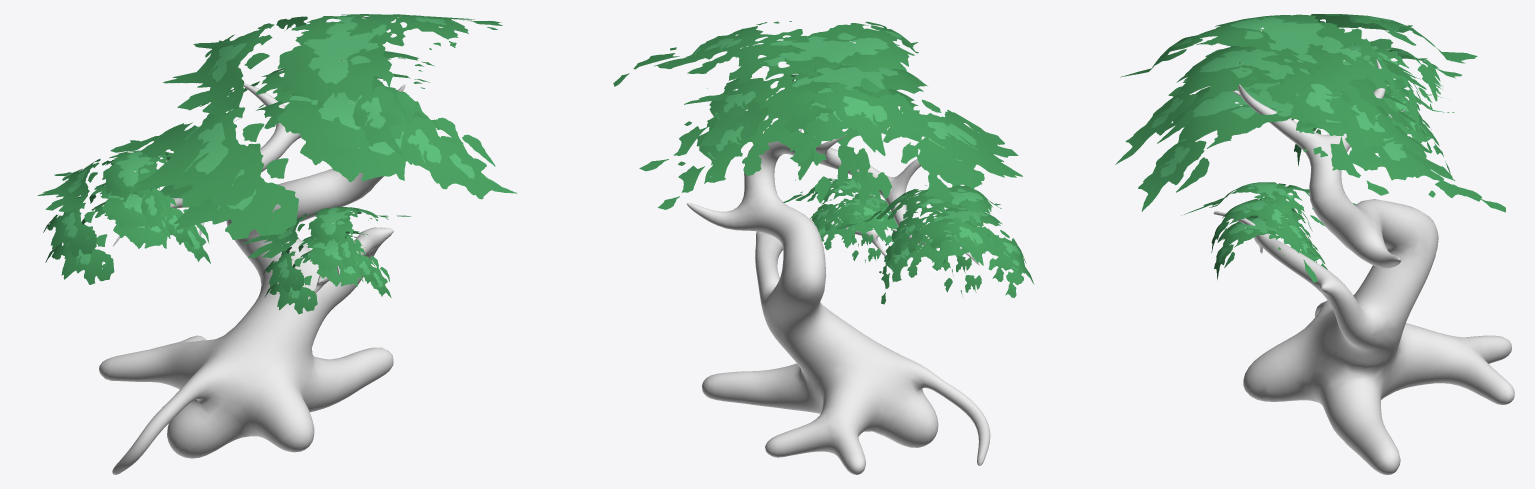
File: BRUME_Arbre.fbx
3 renders of one model, left to right at view 1: azimuth 30°, elevation 25°; view 2: azimuth 150°, elevation 25°; view 3: azimuth 270°, elevation 25°, orthographic. The views are drawn at different scales.
Visible parts, largest first — view 1: PM3D_Arbre_V2, Sphere, Sphere.002, Sphere.001, Sphere.005, Sphere.003, Sphere.004, Sphere.008, Sphere.006, Sphere.007; view 2: PM3D_Arbre_V2, Sphere.002, Sphere, Sphere.001, Sphere.005, Sphere.003, Sphere.004, Sphere.008, Sphere.006, Sphere.007; view 3: PM3D_Arbre_V2, Sphere.002, Sphere, Sphere.001, Sphere.008, Sphere.007, Sphere.006, Sphere.005, Sphere.004, Sphere.003.
Part boxes in pixels (x1=…): PM3D_Arbre_V2: x1=99, y1=83, x2=405, y2=474; Sphere: x1=110, y1=51, x2=488, y2=207; Sphere.002: x1=163, y1=14, x2=502, y2=160; Sphere.001: x1=133, y1=74, x2=517, y2=239; Sphere.005: x1=37, y1=150, x2=172, y2=237; Sphere.003: x1=43, y1=183, x2=194, y2=256; Sphere.004: x1=45, y1=198, x2=210, y2=284; Sphere.008: x1=241, y1=207, x2=411, y2=281; Sphere.006: x1=263, y1=231, x2=378, y2=292; Sphere.007: x1=265, y1=245, x2=391, y2=314; PM3D_Arbre_V2: x1=686, y1=128, x2=990, y2=474; Sphere.002: x1=613, y1=21, x2=925, y2=162; Sphere: x1=639, y1=63, x2=1018, y2=202; Sphere.001: x1=658, y1=74, x2=1022, y2=211; Sphere.005: x1=837, y1=185, x2=1005, y2=268; Sphere.003: x1=882, y1=205, x2=1026, y2=281; Sphere.004: x1=879, y1=230, x2=1034, y2=304; Sphere.008: x1=783, y1=175, x2=898, y2=248; Sphere.006: x1=812, y1=193, x2=898, y2=246; Sphere.007: x1=819, y1=212, x2=918, y2=263; PM3D_Arbre_V2: x1=1213, y1=59, x2=1514, y2=474; Sphere.002: x1=1120, y1=14, x2=1477, y2=195; Sphere: x1=1115, y1=38, x2=1481, y2=201; Sphere.001: x1=1138, y1=62, x2=1505, y2=212; Sphere.008: x1=1182, y1=182, x2=1355, y2=282; Sphere.007: x1=1214, y1=215, x2=1327, y2=279; Sphere.006: x1=1211, y1=197, x2=1316, y2=262; Sphere.005: x1=1347, y1=44, x2=1461, y2=125; Sphere.004: x1=1294, y1=98, x2=1450, y2=173; Sphere.003: x1=1291, y1=78, x2=1430, y2=150.
Size of the model in its own units: 6.96 by 5.55 by 5.39.
